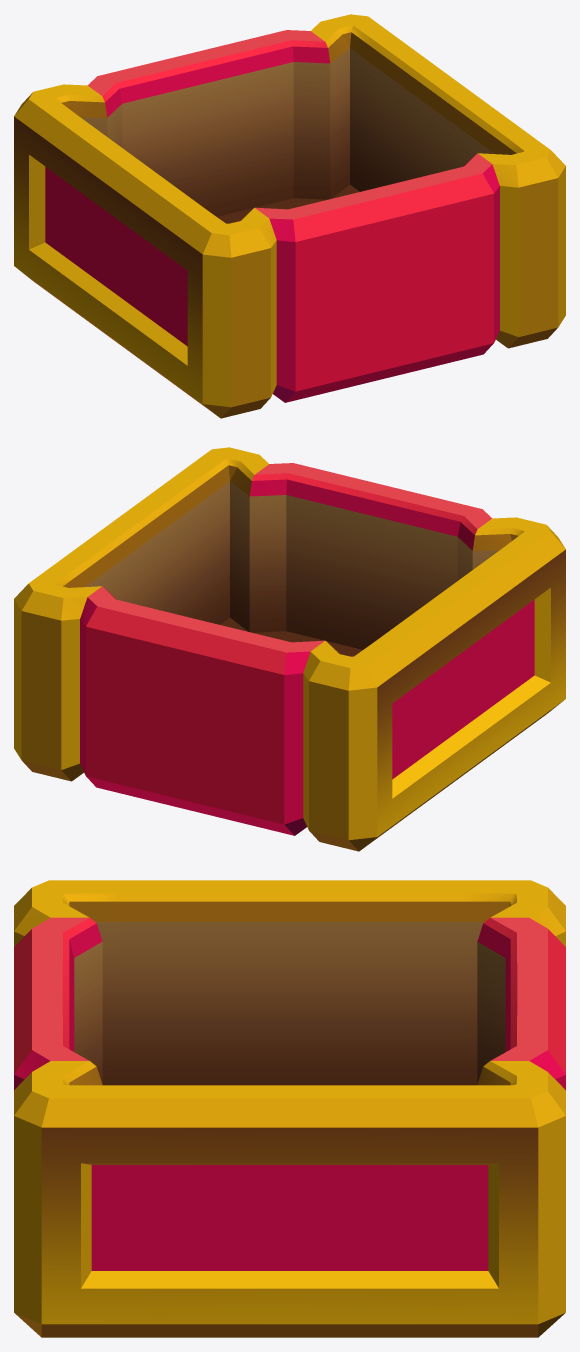
Rendered from m_deco_chestA_body.FBX.
3 views of the same model, one above another, from view 1: azimuth 30°, elevation 25°; view 2: azimuth 150°, elevation 25°; view 3: azimuth 270°, elevation 25° (orthographic). The views are drawn at different scales.
Visible parts, largest first — view 1: m_deco_chestA_body; view 2: m_deco_chestA_body; view 3: m_deco_chestA_body.
Part boxes in pixels (<box>): m_deco_chestA_body: <box>14,14,565,418</box>; m_deco_chestA_body: <box>14,447,565,851</box>; m_deco_chestA_body: <box>14,880,565,1337</box>.
Bounding box in the file's own units: 2 × 0.9728 × 2.
